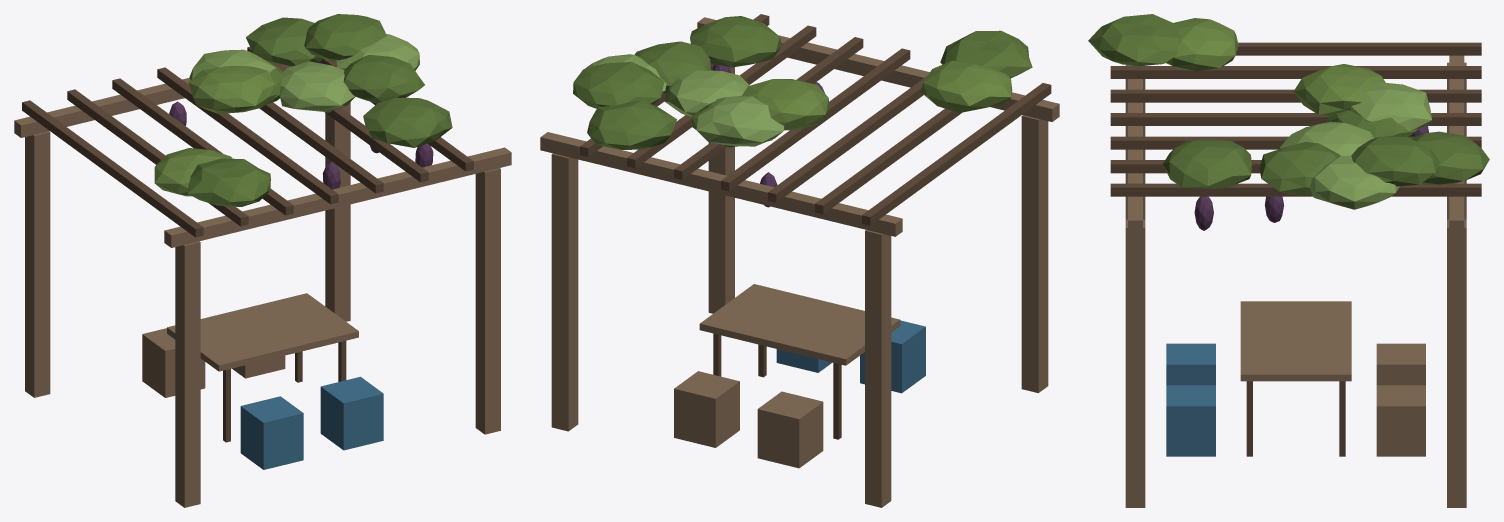
The model's file is cardak-asmali.glb.
3 views of the same model, side by side, from view 1: azimuth 30°, elevation 25°; view 2: azimuth 150°, elevation 25°; view 3: azimuth 270°, elevation 25° (orthographic). The views are drawn at different scales.
Parts seen in each view (by area): view 1: ahsap, ahsap_koyu, asma2, mavi_kapi, yaprak3, asma, patlican; view 2: ahsap, ahsap_koyu, asma2, asma, yaprak3, mavi_kapi; view 3: ahsap, ahsap_koyu, asma2, yaprak3, asma, mavi_kapi, patlican.
Boxes of the visible parts, left/top/right/bottom form: ahsap: left=14, top=65, right=511, bottom=507; ahsap_koyu: left=22, top=46, right=473, bottom=442; asma2: left=188, top=14, right=452, bottom=206; mavi_kapi: left=240, top=376, right=383, bottom=469; yaprak3: left=189, top=34, right=419, bottom=112; asma: left=154, top=66, right=277, bottom=196; patlican: left=169, top=101, right=433, bottom=189; ahsap: left=540, top=17, right=1059, bottom=507; ahsap_koyu: left=580, top=14, right=1051, bottom=439; asma2: left=573, top=16, right=1032, bottom=149; asma: left=741, top=60, right=1012, bottom=130; yaprak3: left=585, top=54, right=784, bottom=146; mavi_kapi: left=776, top=320, right=925, bottom=393; ahsap: left=1125, top=55, right=1466, bottom=507; ahsap_koyu: left=1110, top=42, right=1481, bottom=456; asma2: left=1088, top=14, right=1489, bottom=195; yaprak3: left=1279, top=82, right=1431, bottom=209; asma: left=1166, top=18, right=1385, bottom=116; mavi_kapi: left=1166, top=343, right=1215, bottom=456; patlican: left=1194, top=126, right=1428, bottom=230.
Bounding box in the file's own units: 3.51 × 3.1 × 3.25.
